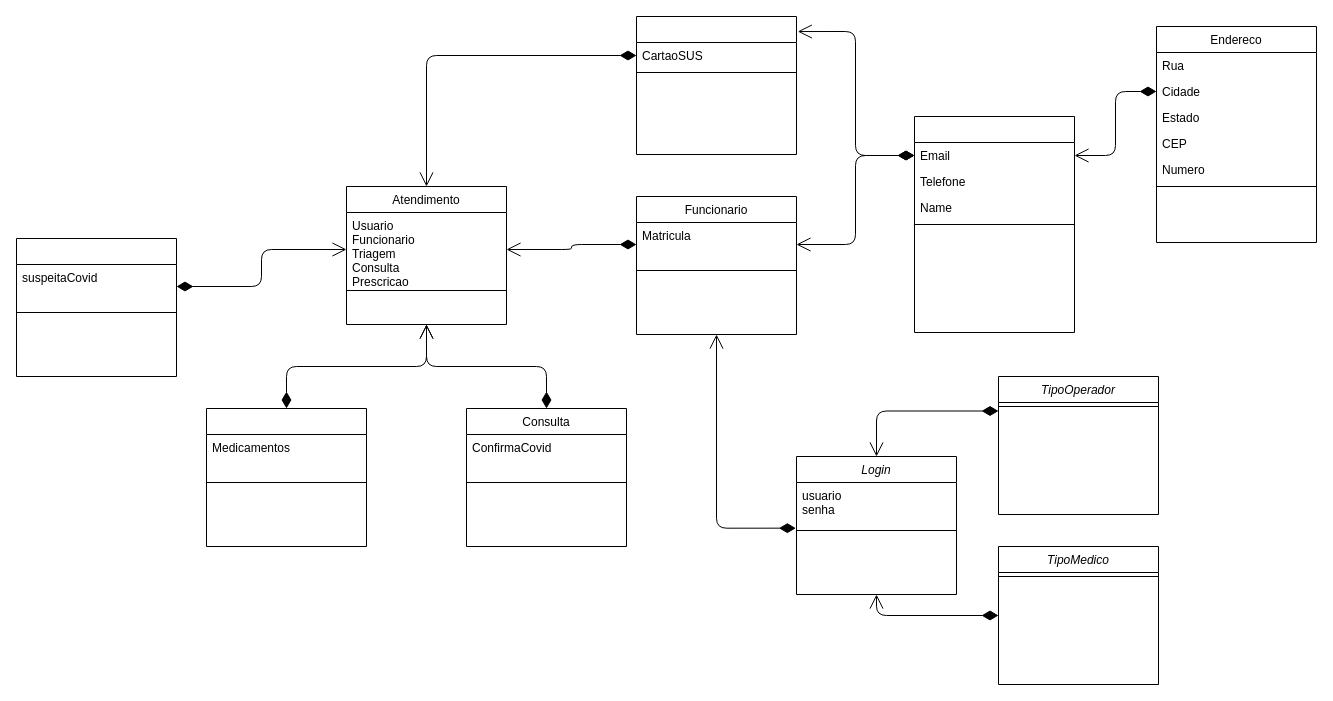
Some shapes in this 1333 by 701 pixel diagram are drawn without their labels. The box of each missing label's shape, as (x1, y1, x2, y2) in pixels:
Pessoa: (914, 116, 1074, 332)
Prescricao: (206, 408, 366, 546)
Triagem: (16, 238, 176, 376)
Usuario: (636, 16, 796, 154)
